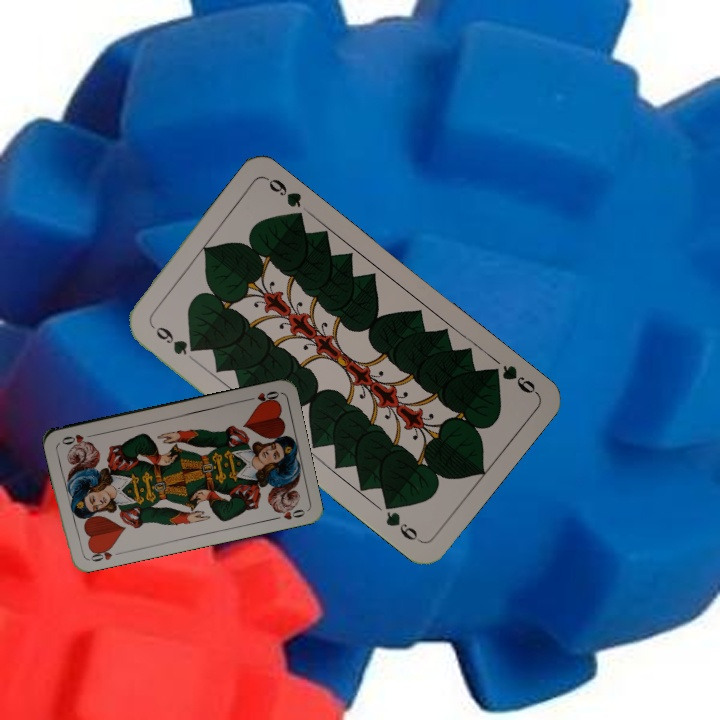G9: (483, 361, 540, 397), (147, 320, 200, 358)
HO: (83, 542, 123, 564), (241, 387, 282, 407)
